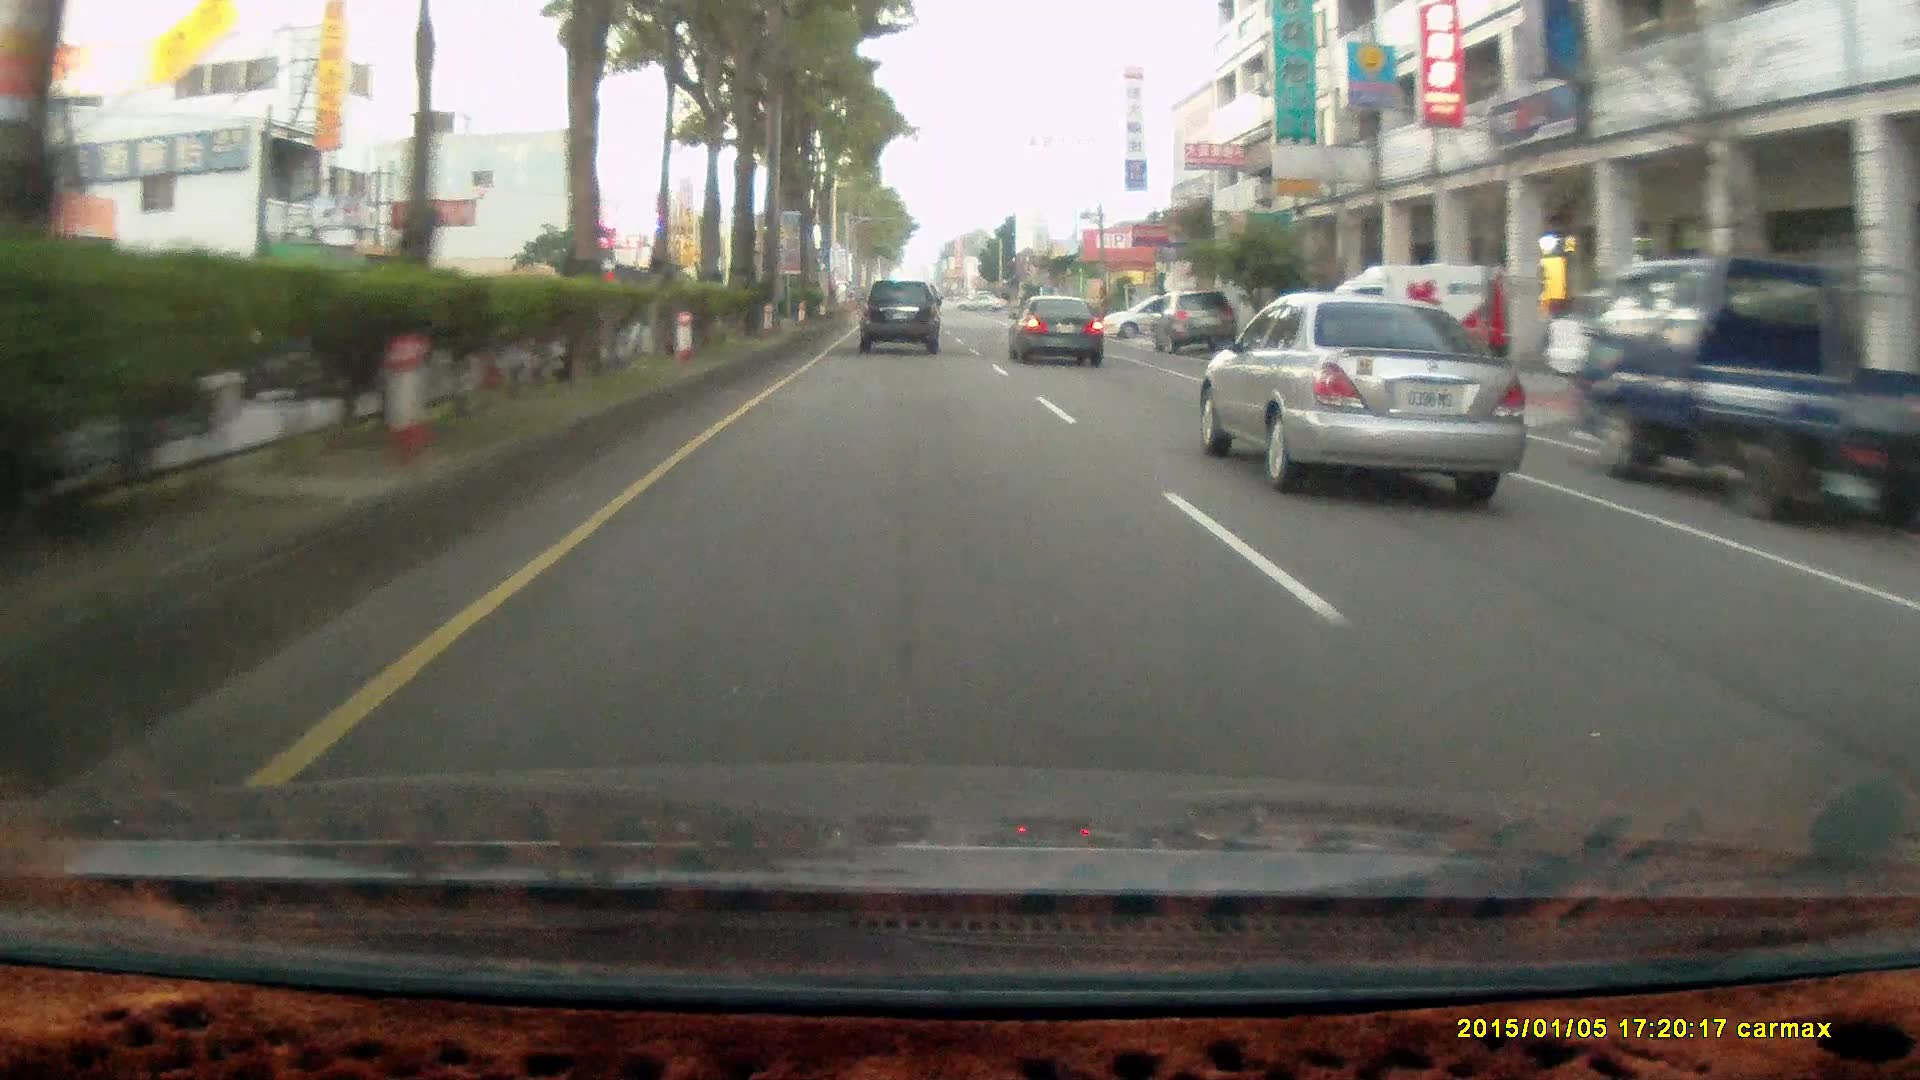vehicle: (1578, 255, 1920, 520), (1207, 289, 1534, 491), (1320, 261, 1510, 380), (1327, 261, 1516, 380), (1007, 291, 1109, 367), (1007, 289, 1104, 361), (858, 281, 944, 359), (858, 276, 939, 351), (1156, 289, 1240, 357), (1155, 289, 1238, 356)
